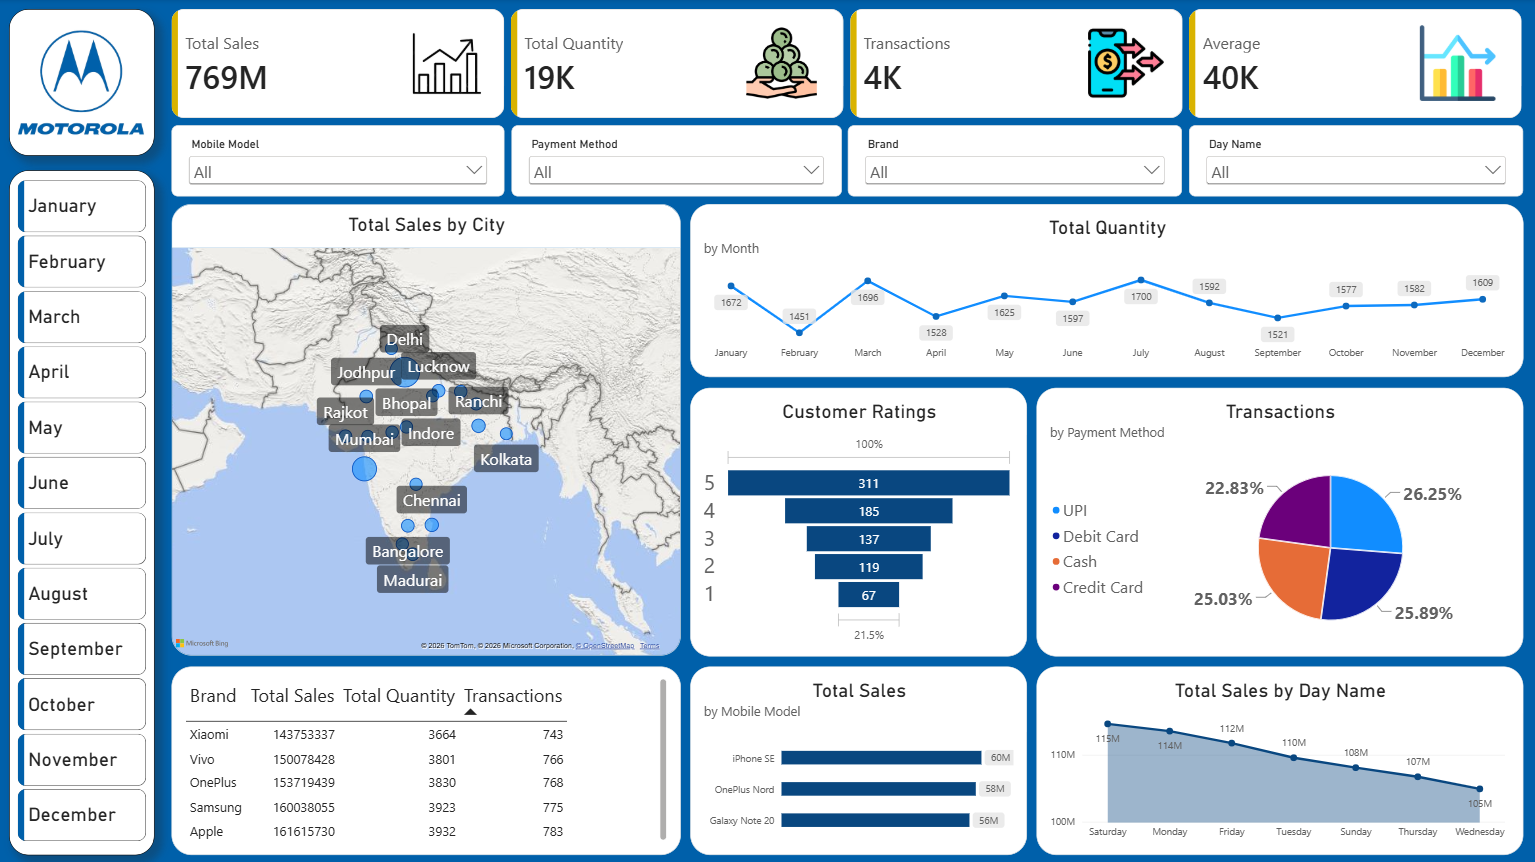

This screenshot's page, from the dashboard's own definition file:
{"tool":"powerbi","page":{"name":"Page 1","canvas":[1920,1080],"ordinal":0},"visuals":[{"type":"shape","box":[12.2,12.2,181.4,183.1],"z":0},{"type":"image","box":[20.9,7,164,195.3],"z":1000},{"type":"shape","box":[12.2,212.8,181.4,854.7],"z":2000},{"type":"advancedSlicerVisual","fields":{"Values":["Sales_Data.Date.Variation.Date Hierarchy.Month"]},"box":[22.7,226.7,160.5,826.7],"z":3000},{"type":"cardVisual","fields":{"Data":["Sales_Data.Total Sales","Sales_Data.Total Quantity","Sales_Data.Transactions","Sales_Data.Average"]},"box":[214.5,12.2,1686.6,136],"z":4000},{"type":"image","box":[373.3,26.2,371.5,108.1],"z":5000},{"type":"image","box":[893,33.1,165.7,94.2],"z":6000},{"type":"image","box":[1282,33.1,247.7,94.2],"z":7000},{"type":"image","box":[1761.6,33.1,115.1,94.2],"z":8000},{"type":"map","fields":{"Category":["Sales_Data.City"],"Size":["Sales_Data.Total Sales"]},"box":[214.5,256.4,634.9,563.4],"z":9000},{"type":"lineChart","fields":{"Category":["Sales_Data.Date.Variation.Date Hierarchy.Month","Sales_Data.Date.Variation.Date Hierarchy.Day"],"Y":["Sales_Data.Total Quantity"]},"box":[861.6,256.4,1039.5,216.3],"z":10000},{"type":"clusteredBarChart","fields":{"Category":["Sales_Data.Mobile Model"],"Y":["Sales_Data.Total Sales"]},"box":[861.6,832,420.4,235.5],"z":11000},{"type":"pieChart","fields":{"Category":["Sales_Data.Payment Method"],"Y":["Sales_Data.Transactions"]},"box":[1294.2,484.9,607,334.9],"z":12000},{"type":"funnel","title":"Customer Ratings","fields":{"Category":["Sales_Data.Customer Ratings"],"Y":["CountNonNull(Sales_Data.Customer Ratings)"]},"box":[861.6,484.9,420.4,334.9],"z":13000},{"type":"areaChart","fields":{"Category":["Sales_Data.Day Name"],"Y":["Sales_Data.Total Sales"]},"box":[1294.2,832,607,235.5],"z":14000},{"type":"tableEx","fields":{"Values":["Sales_Data.Brand","Sales_Data.Total Sales","Sales_Data.Total Quantity","Sales_Data.Transactions"]},"box":[214.5,832,634.9,235.5],"z":15000},{"type":"slicer","fields":{"Values":["Sales_Data.Mobile Model"]},"box":[214.5,157,415.1,89],"z":15001},{"type":"slicer","fields":{"Values":["Sales_Data.Payment Method"]},"box":[638.4,157,411.6,89],"z":15002},{"type":"slicer","fields":{"Values":["Sales_Data.Brand"]},"box":[1058.7,157,416.9,89],"z":15003},{"type":"slicer","fields":{"Values":["Sales_Data.Day Name"]},"box":[1484.3,157,416.9,89],"z":15004}]}

Visuals, with their boxes in screenshot pixels (x1, y1, x2, y2), scaled from the page's 1920x1080 canvas onto the 1535x862 screenshot:
shape: [10, 10, 155, 156]
image: [17, 6, 148, 161]
shape: [10, 170, 155, 852]
advancedSlicerVisual - Sales_Data.Date.Variation.Date Hierarchy.Month: [18, 181, 146, 841]
cardVisual - Sales_Data.Total Sales x Sales_Data.Total Quantity: [171, 10, 1520, 118]
image: [298, 21, 595, 107]
image: [714, 26, 846, 102]
image: [1025, 26, 1223, 102]
image: [1408, 26, 1500, 102]
map - Sales_Data.City x Sales_Data.Total Sales: [171, 205, 679, 654]
lineChart - Sales_Data.Date.Variation.Date Hierarchy.Month x Sales_Data.Date.Variation.Date Hierarchy.Day: [689, 205, 1520, 377]
clusteredBarChart - Sales_Data.Mobile Model x Sales_Data.Total Sales: [689, 664, 1025, 852]
pieChart - Sales_Data.Payment Method x Sales_Data.Transactions: [1035, 387, 1520, 654]
"Customer Ratings" funnel: [689, 387, 1025, 654]
areaChart - Sales_Data.Day Name x Sales_Data.Total Sales: [1035, 664, 1520, 852]
tableEx - Sales_Data.Brand x Sales_Data.Total Sales: [171, 664, 679, 852]
slicer - Sales_Data.Mobile Model: [171, 125, 503, 196]
slicer - Sales_Data.Payment Method: [510, 125, 839, 196]
slicer - Sales_Data.Brand: [846, 125, 1180, 196]
slicer - Sales_Data.Day Name: [1187, 125, 1520, 196]
